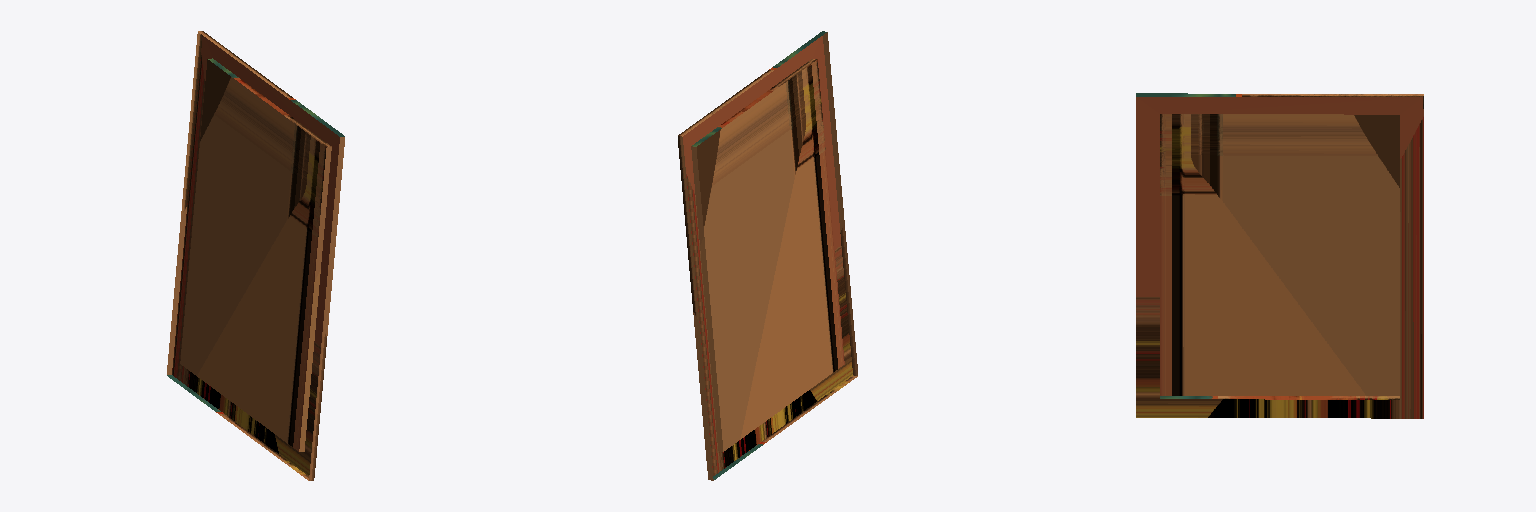
3 renders of one model, left to right at view 1: azimuth 30°, elevation 25°; view 2: azimuth 150°, elevation 25°; view 3: azimuth 270°, elevation 25°, orthographic.
Parts seen in each view (by area): view 1: Plane.003; view 2: Plane.003; view 3: Plane.003.
Boxes of the visible parts, x1=… form: Plane.003: x1=167, y1=31, x2=344, y2=480; Plane.003: x1=678, y1=31, x2=857, y2=480; Plane.003: x1=1136, y1=93, x2=1423, y2=418.
Size of the model in its own units: 0.0679 by 0.5817 by 0.4496.
Materials: 1 (1 with a texture image).